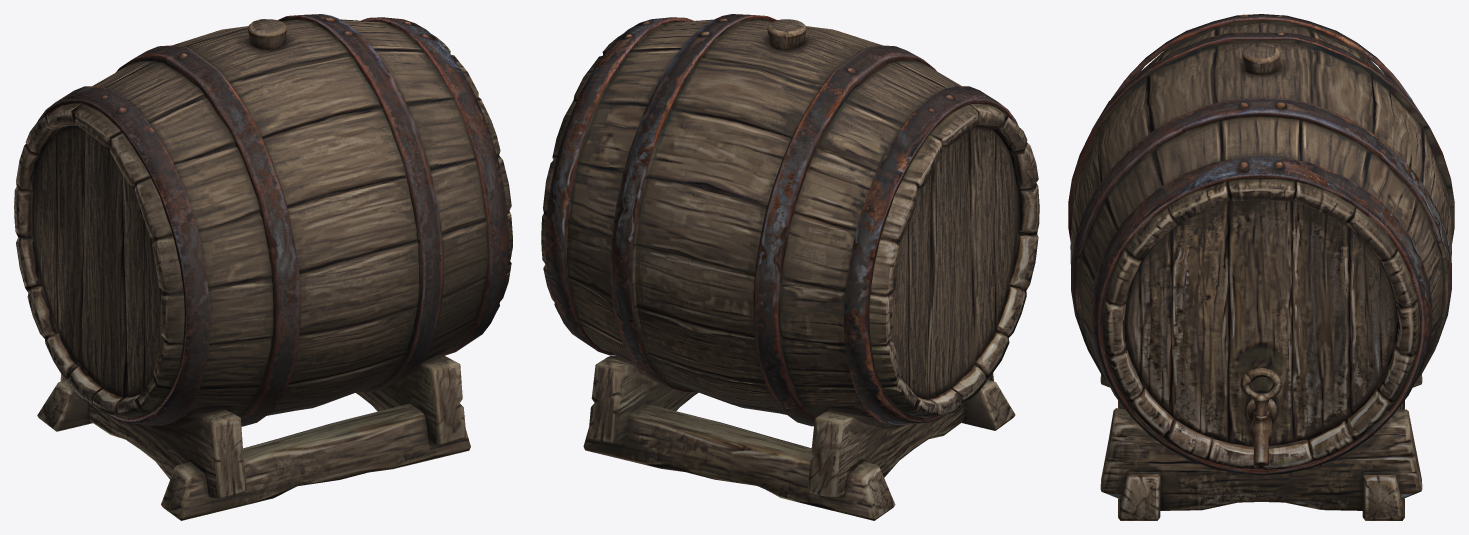
Rendered from SM_Env_SohoAleBarrel.fbx.
The picture shows the model from 3 angles, left to right: view 1: azimuth 30°, elevation 25°; view 2: azimuth 150°, elevation 25°; view 3: azimuth 270°, elevation 25°; orthographic projection.
Parts seen in each view (by area): view 1: SM_Env_SohoAleBarrel; view 2: SM_Env_SohoAleBarrel; view 3: SM_Env_SohoAleBarrel.
Part boxes in pixels (x1=…): SM_Env_SohoAleBarrel: x1=14, y1=14, x2=512, y2=520; SM_Env_SohoAleBarrel: x1=541, y1=14, x2=1039, y2=520; SM_Env_SohoAleBarrel: x1=1068, y1=14, x2=1454, y2=520.
Size of the model in its own units: 25.87 by 20.69 by 24.
Materials: 1 (1 with a texture image).
